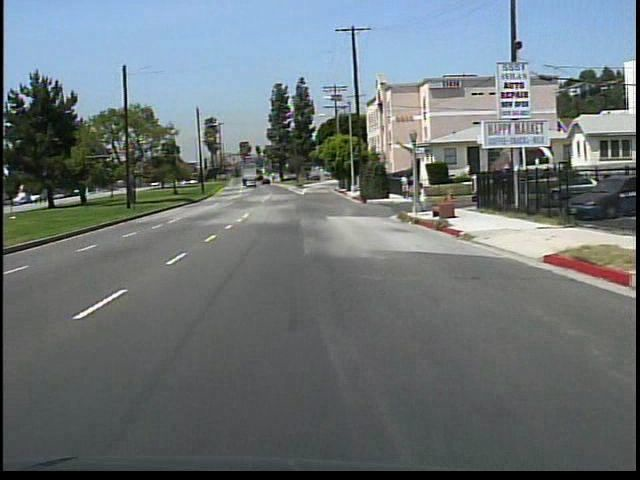person: (413, 179, 427, 216), (398, 174, 410, 199)
